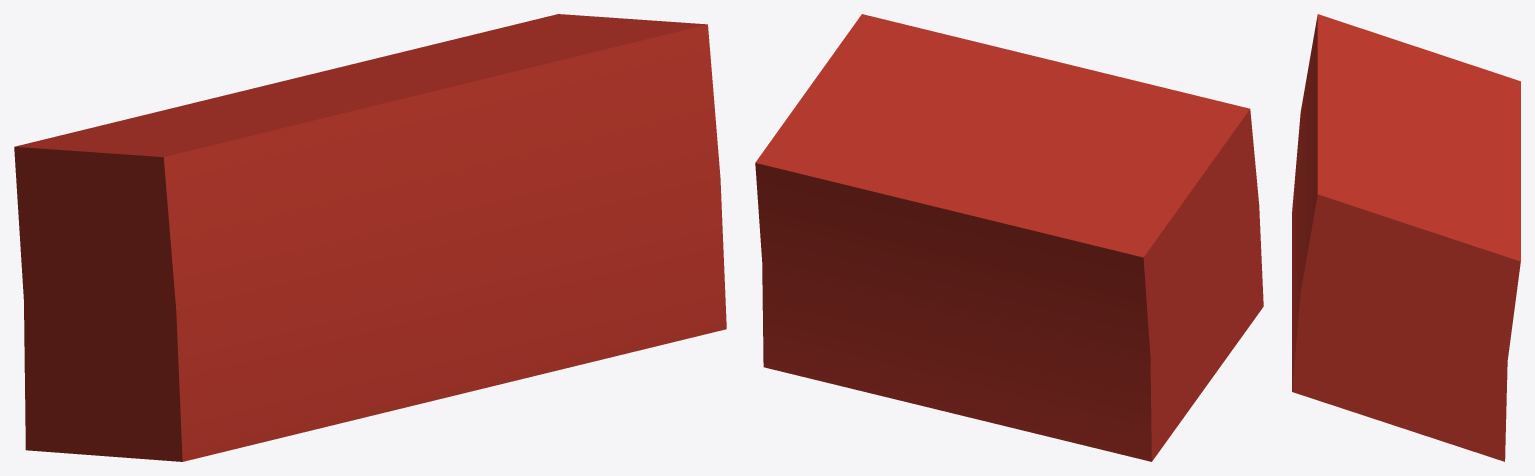
The model's file is EBoxNewAsm_stp_1_Beelink_mini_PC_v4_stp_1_Beelink_mini_PC_v4_55_stp_1_solid1.obj.
3 renders of one model, left to right at view 1: azimuth 30°, elevation 25°; view 2: azimuth 150°, elevation 25°; view 3: azimuth 270°, elevation 25°, orthographic. The views are drawn at different scales.
Parts seen in each view (by area): view 1: mesh8089, mesh8090, mesh8091; view 2: mesh8092, mesh8091, mesh8090; view 3: mesh8088, mesh8091, mesh8089.
Part boxes in pixels (box(x1,y1,x2,y2)): mesh8089: box(163, 24, 726, 461); mesh8090: box(14, 147, 182, 461); mesh8091: box(15, 14, 706, 156); mesh8092: box(755, 163, 1151, 461); mesh8091: box(755, 14, 1249, 257); mesh8090: box(1143, 109, 1263, 461); mesh8088: box(1292, 194, 1520, 461); mesh8091: box(1317, 14, 1520, 261); mesh8089: box(1292, 15, 1317, 391).
Bounding box in the file's own units: 0.001 × 0.000692 × 0.000536.
